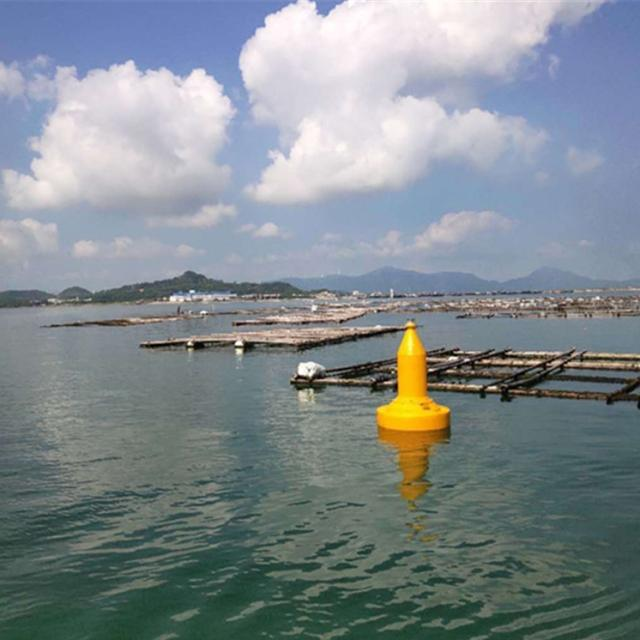buoy: (374, 317, 454, 435)
